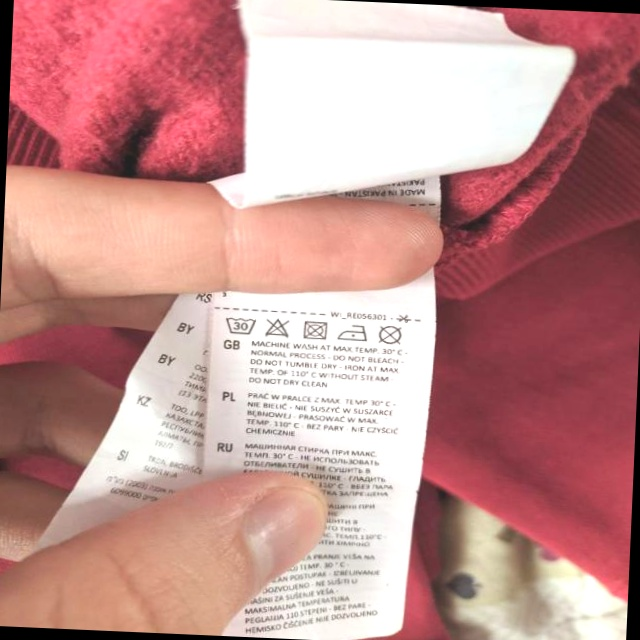30C: (223, 309, 259, 337)
DN_bleach: (264, 314, 293, 339)
DN_dry_clean: (377, 323, 406, 347)
DN_tumble_dry: (301, 317, 331, 340)
iron_low: (337, 320, 370, 344)
